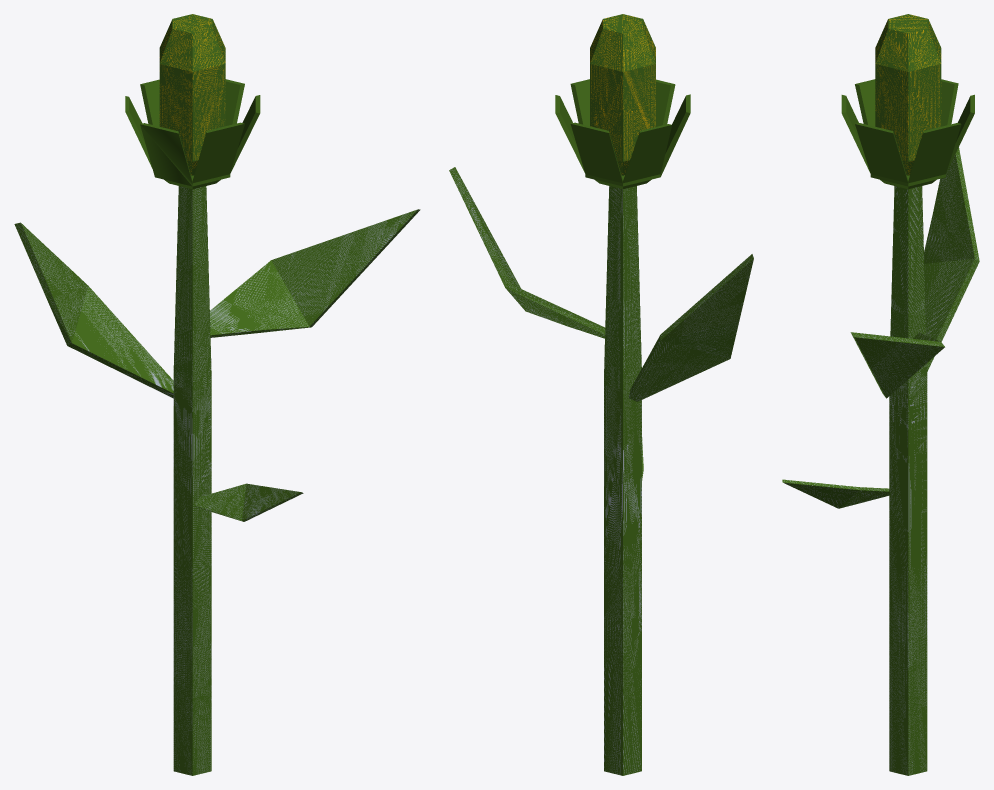
File: Corn_Plant_01.fbx
3 renders of one model, left to right at view 1: azimuth 30°, elevation 25°; view 2: azimuth 150°, elevation 25°; view 3: azimuth 270°, elevation 25°, orthographic.
Parts seen in each view (by area): view 1: Model; view 2: Model; view 3: Model.
Part boxes in pixels (x1=…): Model: x1=14, y1=14, x2=420, y2=775; Model: x1=449, y1=14, x2=753, y2=775; Model: x1=782, y1=14, x2=979, y2=775.
Size of the model in its own units: 137 by 273 by 65.65.
